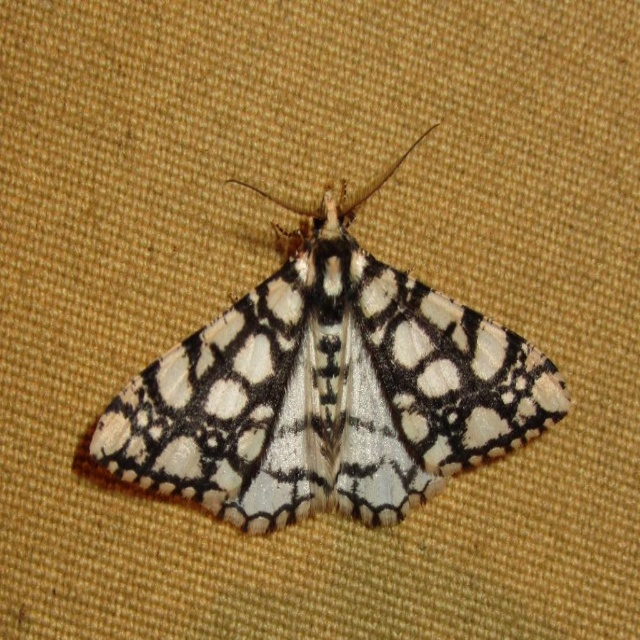Butterfly: (83, 112, 563, 534)
